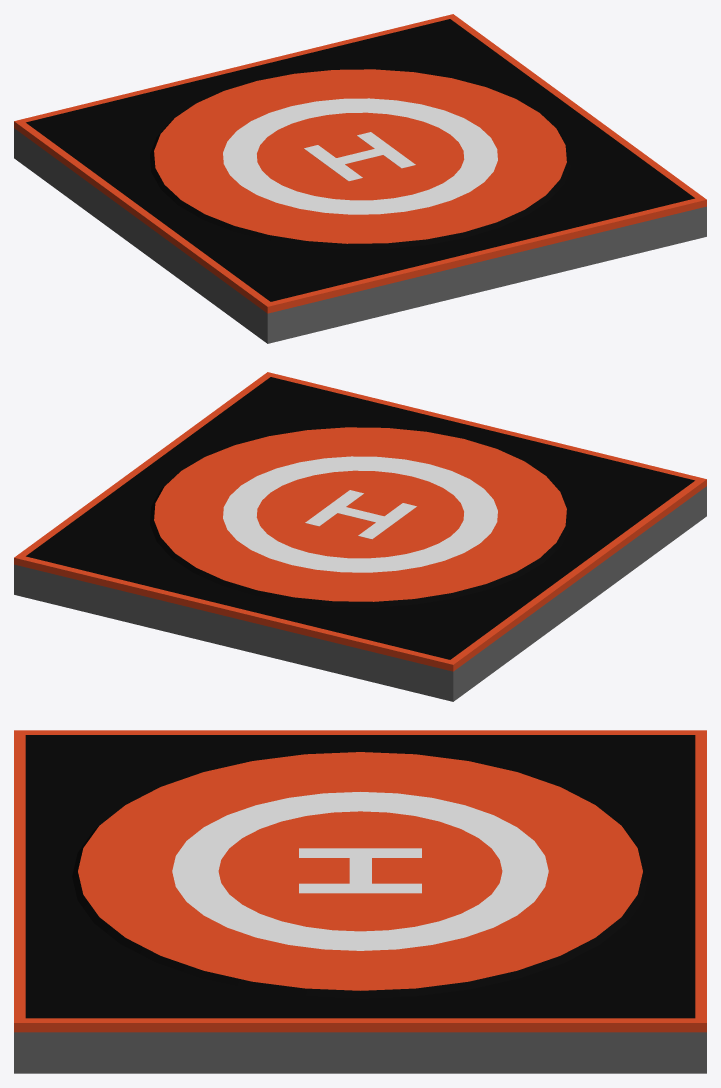
Rendered from Platform.fbx.
3 renders of one model, top to bottom at view 1: azimuth 30°, elevation 25°; view 2: azimuth 150°, elevation 25°; view 3: azimuth 270°, elevation 25°, orthographic. The views are drawn at different scales.
Visible parts, largest first — view 1: Cube.004; view 2: Cube.004; view 3: Cube.004.
Part boxes in pixels (left/top/right/bottom): Cube.004: left=14, top=14, right=706, bottom=343; Cube.004: left=14, top=372, right=706, bottom=701; Cube.004: left=14, top=730, right=706, bottom=1073.
Size of the model in its own units: 164 by 14.62 by 164.
